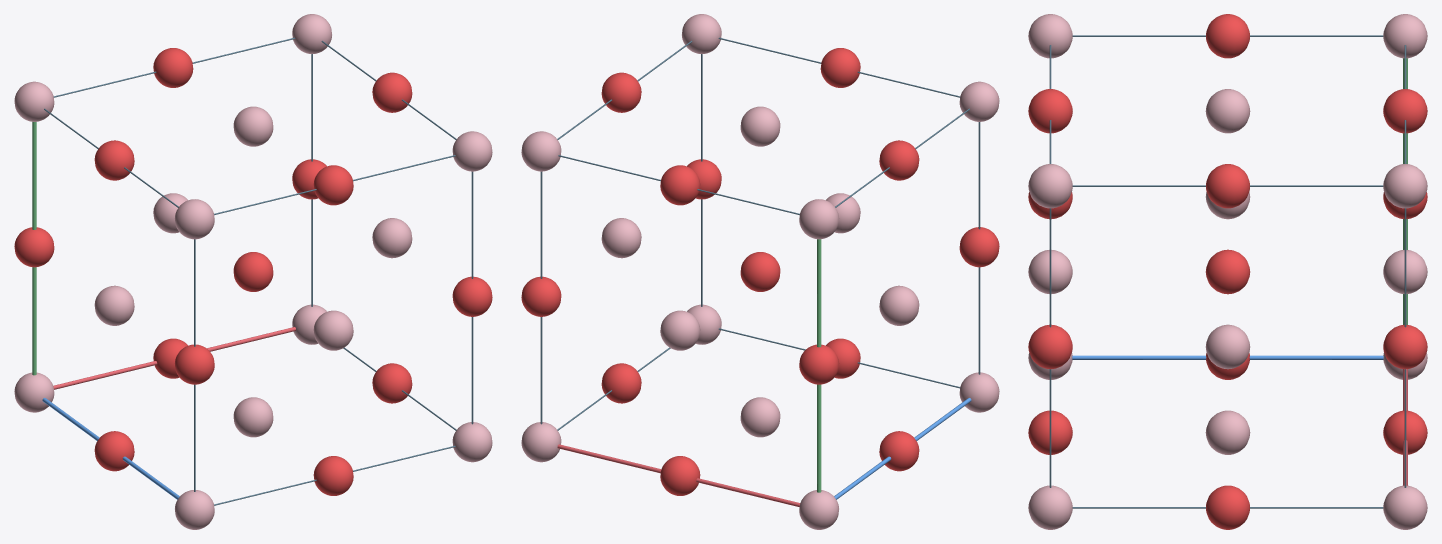
Rendered from chat-strontium-oxide.glb.
The picture shows the model from 3 angles, left to right: view 1: azimuth 30°, elevation 25°; view 2: azimuth 150°, elevation 25°; view 3: azimuth 270°, elevation 25°; orthographic projection. The views are drawn at different scales.
Parts seen in each view (by area): view 1: Sr1 · Sr · 1 (×14), O1 · O · 1 (×13), Ô mạng và các trục a, b, c; view 2: Sr1 · Sr · 1 (×14), O1 · O · 1 (×13), Ô mạng và các trục a, b, c; view 3: Sr1 · Sr · 1 (×13), O1 · O · 1 (×13), Ô mạng và các trục a, b, c.
Part boxes in pixels (x1,y1,x2,y2): Sr1 · Sr · 1 (×14): [14, 14, 492, 529]; O1 · O · 1 (×13): [14, 48, 492, 495]; Ô mạng và các trục a, b, c: [32, 37, 473, 505]; Sr1 · Sr · 1 (×14): [521, 14, 999, 529]; O1 · O · 1 (×13): [521, 48, 999, 495]; Ô mạng và các trục a, b, c: [540, 37, 980, 507]; Sr1 · Sr · 1 (×13): [1028, 14, 1427, 529]; O1 · O · 1 (×13): [1028, 14, 1427, 529]; Ô mạng và các trục a, b, c: [1049, 35, 1407, 508].
Bounding box in the file's own units: 5.74 × 5.74 × 5.74.
